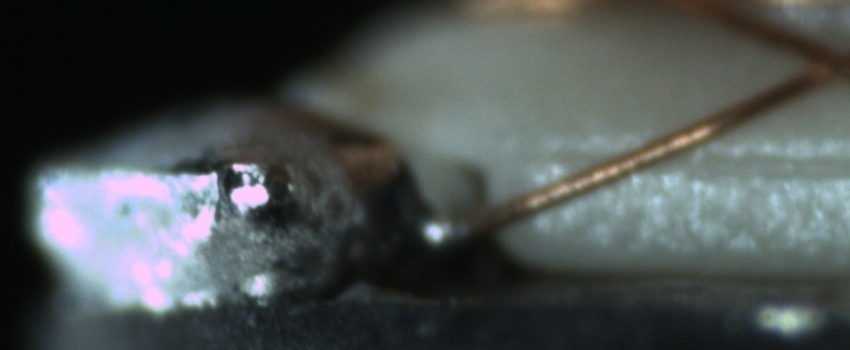CL: (778, 28, 847, 93)
DL: (530, 124, 848, 191)
